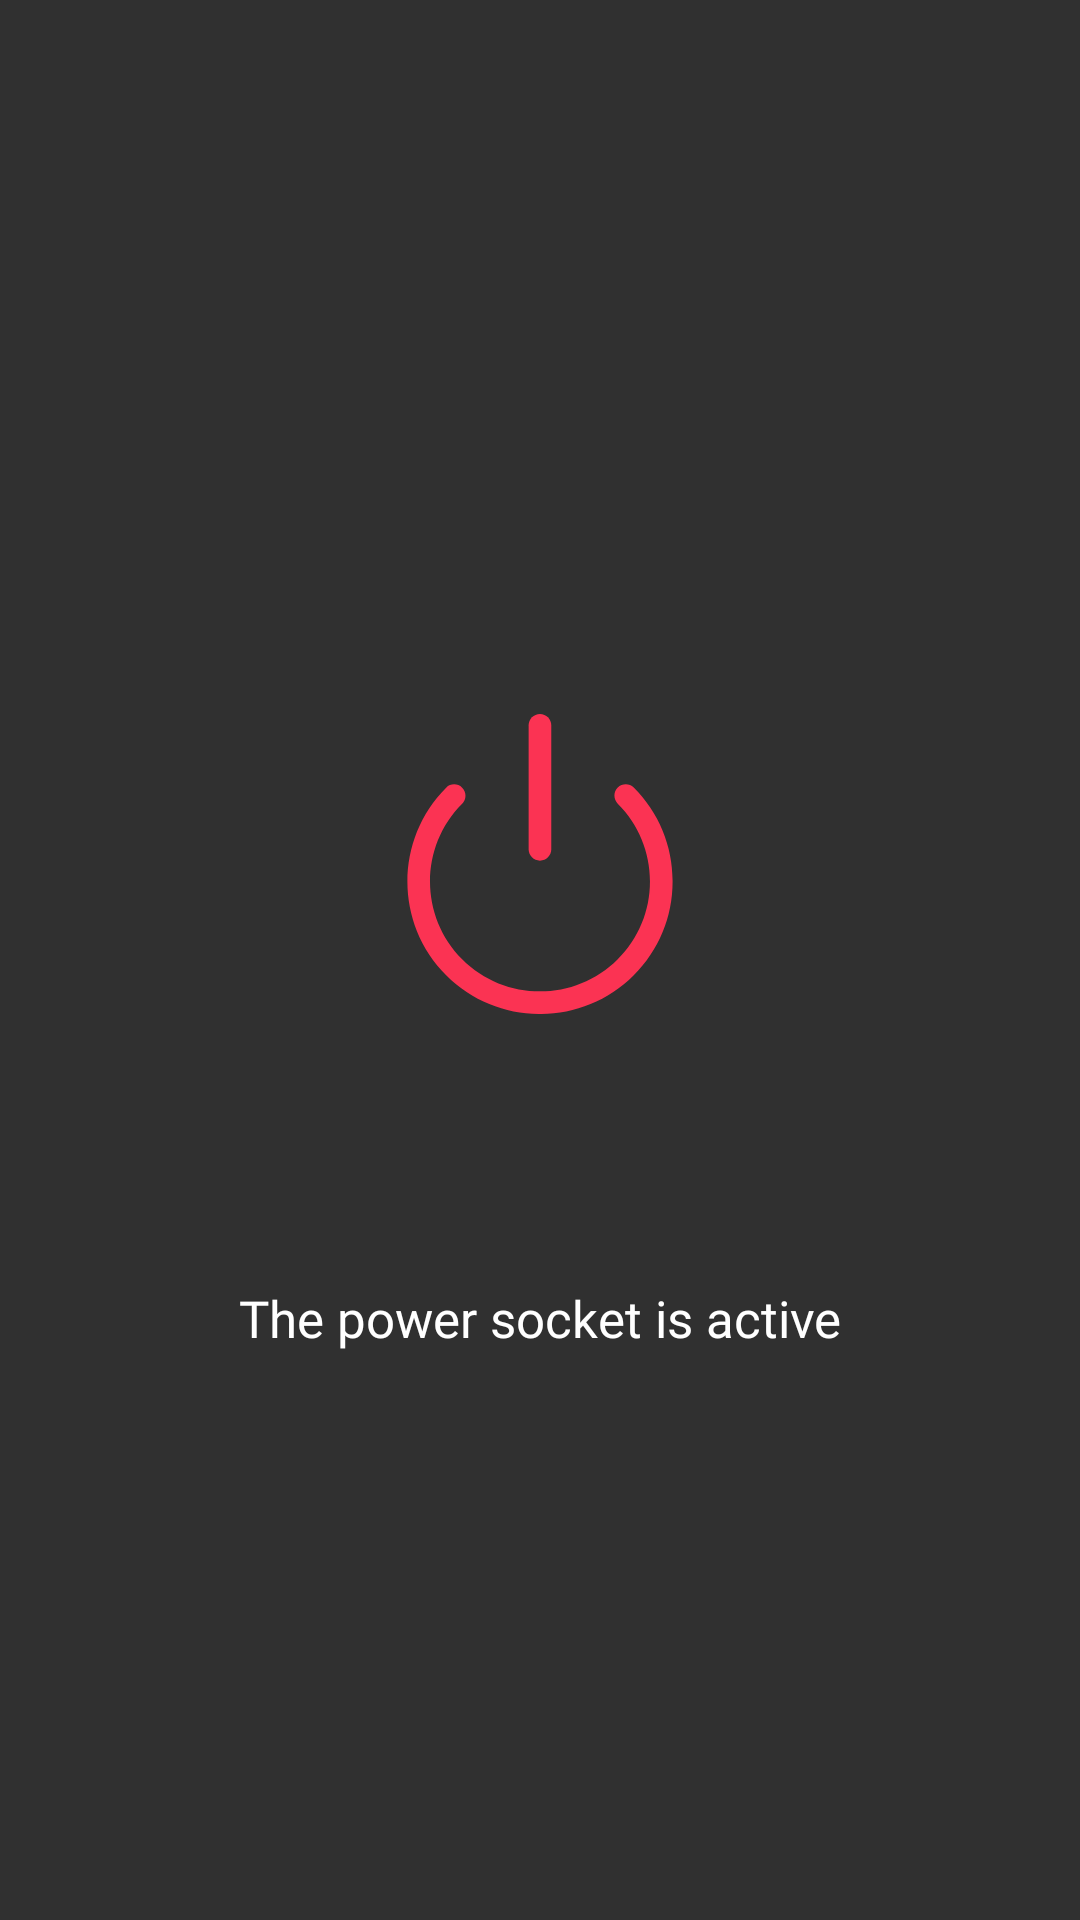

Icon bounding boxes for this 1080px×1920px phone screenshot, format (x1, y1, x2, y2):
power socket state on: (407, 714, 673, 1014)
